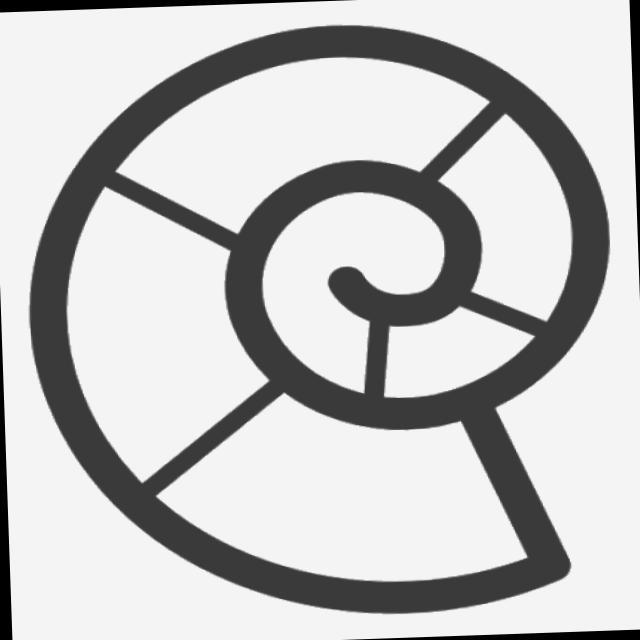fossil: (7, 1, 634, 634)
